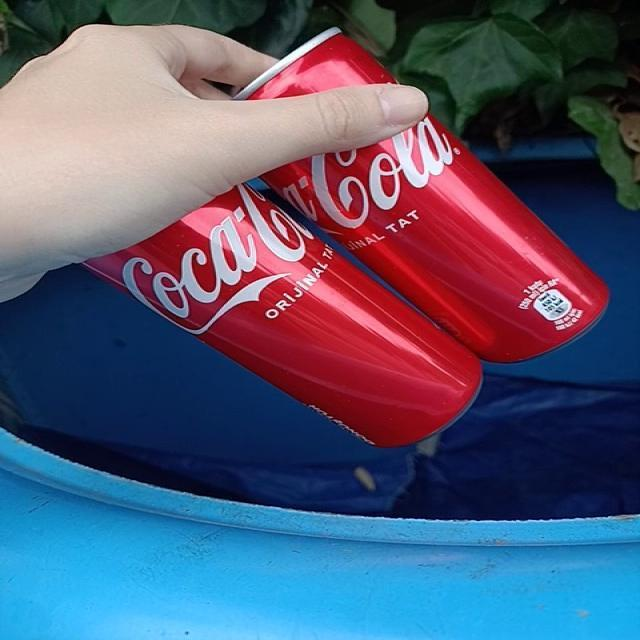Bin: (1, 138, 640, 640)
Metal: (85, 185, 481, 448), (347, 116, 453, 228)
